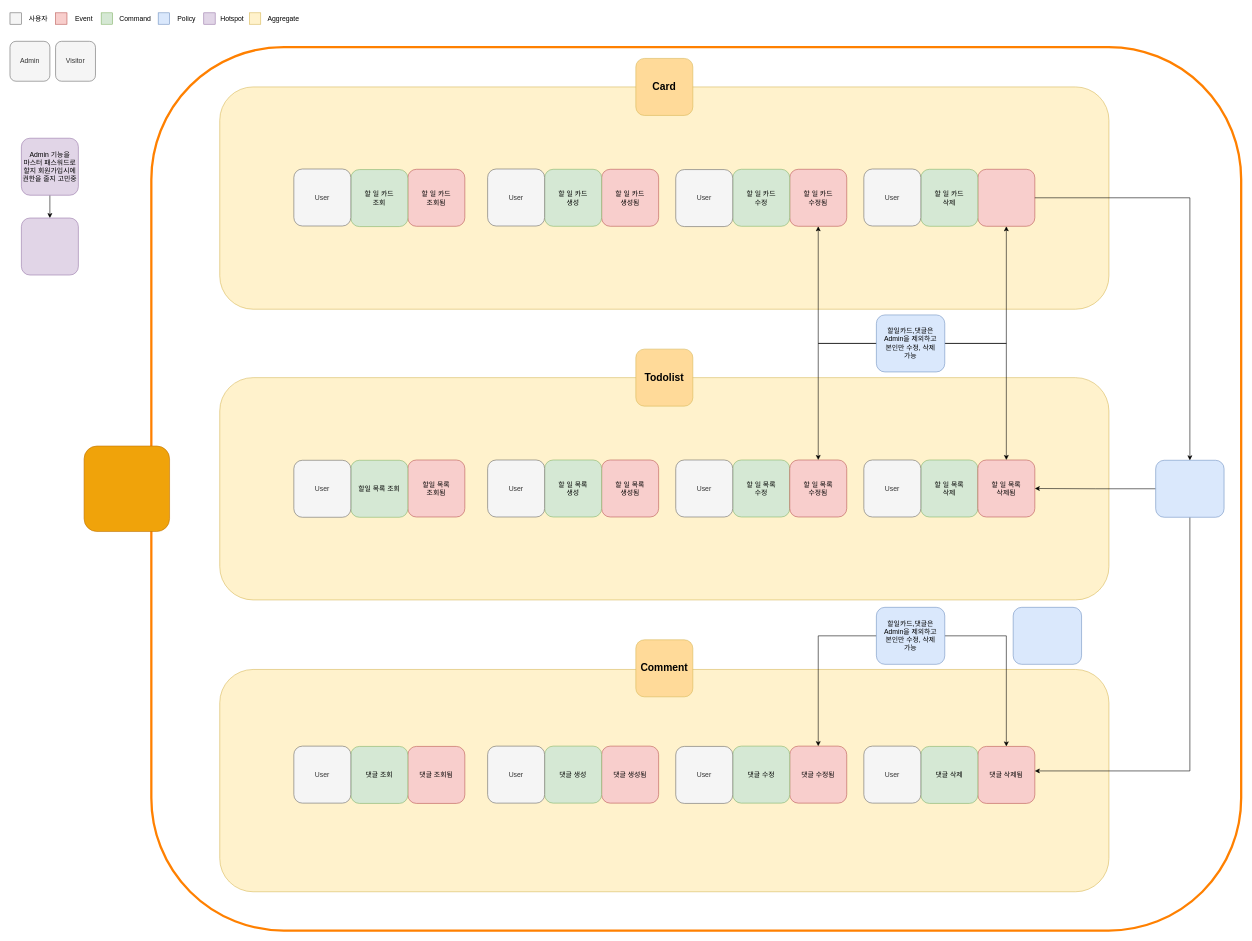
This 1252x941 diagram has some shape labels left out. Here are the shapes that lost their labels. From the top down, the centre of each, then its label:
At point 1006,197: "할 일 카드 삭제됨".
At point 49,246: "원래 회원가입 기능을 추가할까 생각했지만 계획을 변경하고 마스터 패스워드로 결정함".
At point 127,488: "TodoCard Aggregate".
At point 1189,488: "할일 카드를 삭제하면 댓글까지 전부 삭제 됨".
At point 1047,635: "생성시의 비밀번호를 받을 예정".
